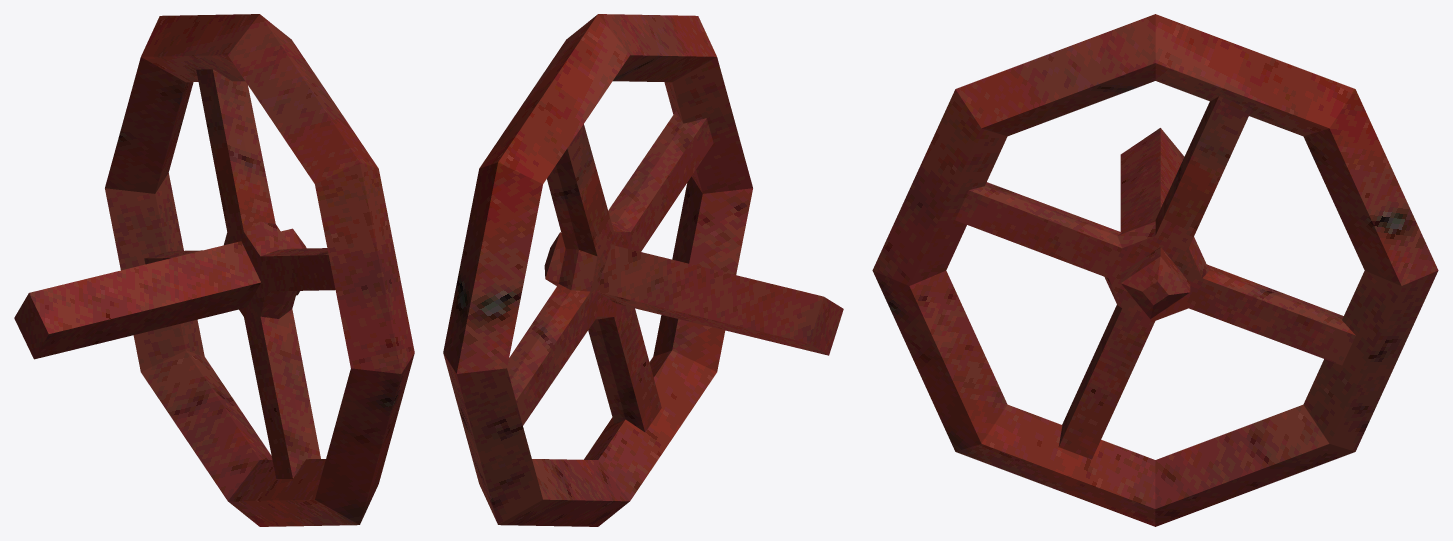
Rendered from valve_red_with_handle.glb.
3 views of the same model, side by side, from view 1: azimuth 30°, elevation 25°; view 2: azimuth 150°, elevation 25°; view 3: azimuth 270°, elevation 25° (orthographic).
Visible parts, largest first — view 1: valve_red_with_handle; view 2: valve_red_with_handle; view 3: valve_red_with_handle.
Boxes of the visible parts, left/top/right/bottom form: valve_red_with_handle: left=14, top=14, right=414, bottom=526; valve_red_with_handle: left=443, top=14, right=843, bottom=526; valve_red_with_handle: left=872, top=14, right=1438, bottom=526.
Bounding box in the file's own units: 0.234 × 0.4167 × 0.4167.
1 material, 1 textured.
